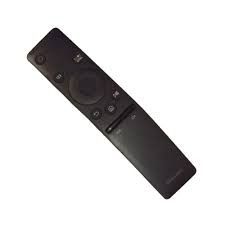remote control: (16, 21, 202, 200)
